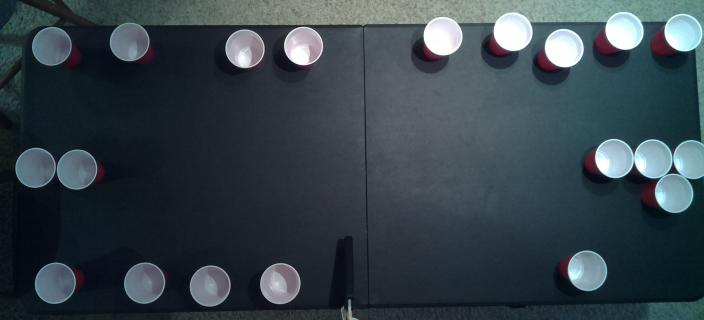active bp cup: (14, 146, 56, 188), (56, 148, 98, 190), (653, 173, 695, 214), (633, 138, 673, 179), (594, 137, 633, 179), (673, 138, 703, 180)
inactive bp cup: (258, 262, 301, 305), (123, 262, 165, 304), (33, 262, 75, 304), (189, 265, 231, 306), (567, 250, 608, 292), (223, 28, 265, 69), (421, 15, 463, 56), (108, 22, 150, 62), (491, 12, 533, 52), (282, 25, 323, 65), (31, 26, 71, 66), (543, 28, 583, 68), (604, 12, 644, 51), (664, 14, 702, 52)
